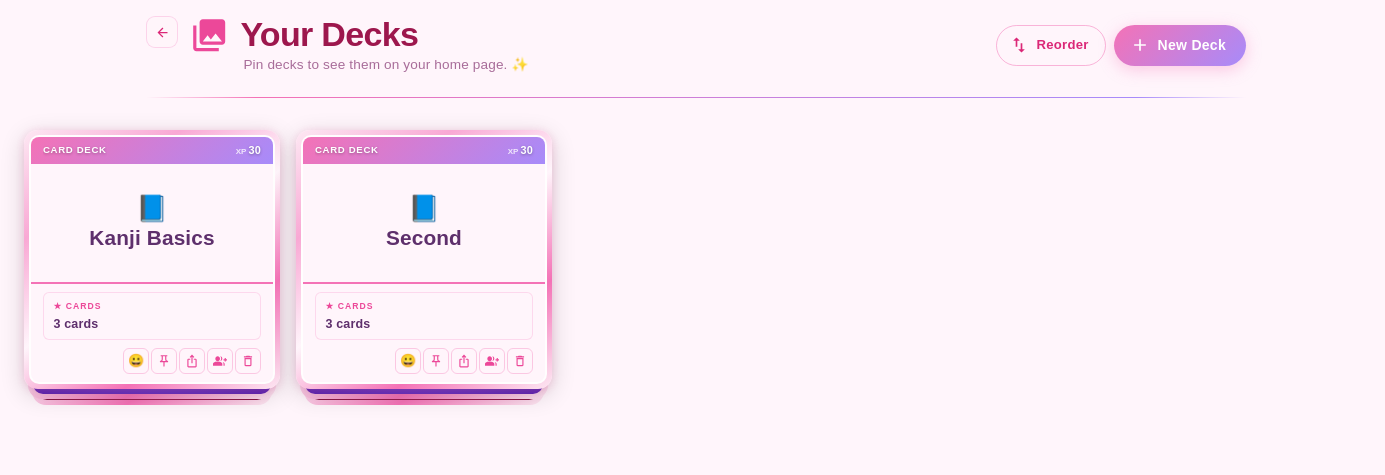
the deck library in its ordinary states › offers reordering once there is more than one deck
Click the button "Reorder" at (1051, 45), box top-left (996, 25), bottom-right (1106, 66)
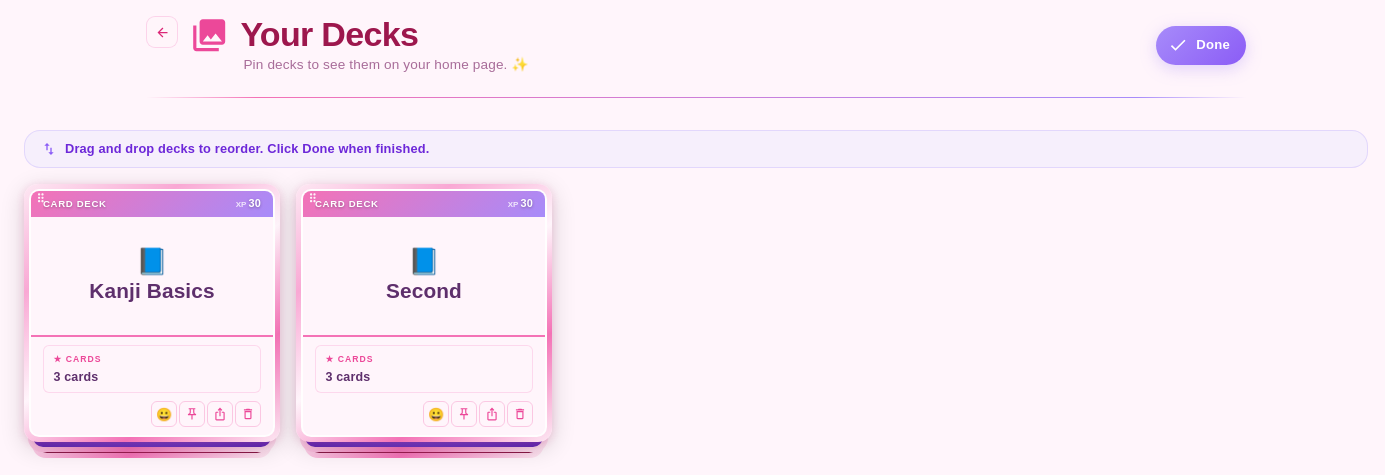
Result: the button "Done" is shown at top-left (1156, 26), bottom-right (1246, 65)
